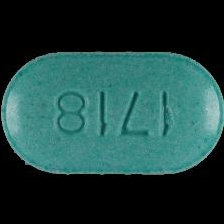0093-1718: (0, 0, 224, 224)
